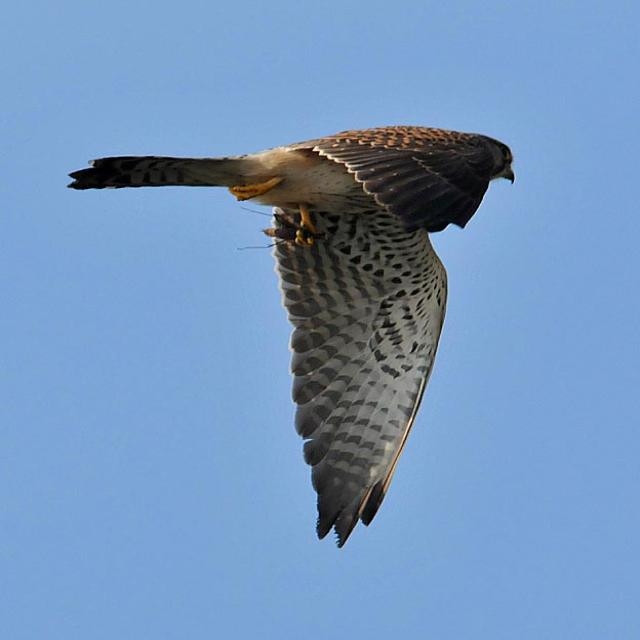bird: (64, 114, 539, 546)
